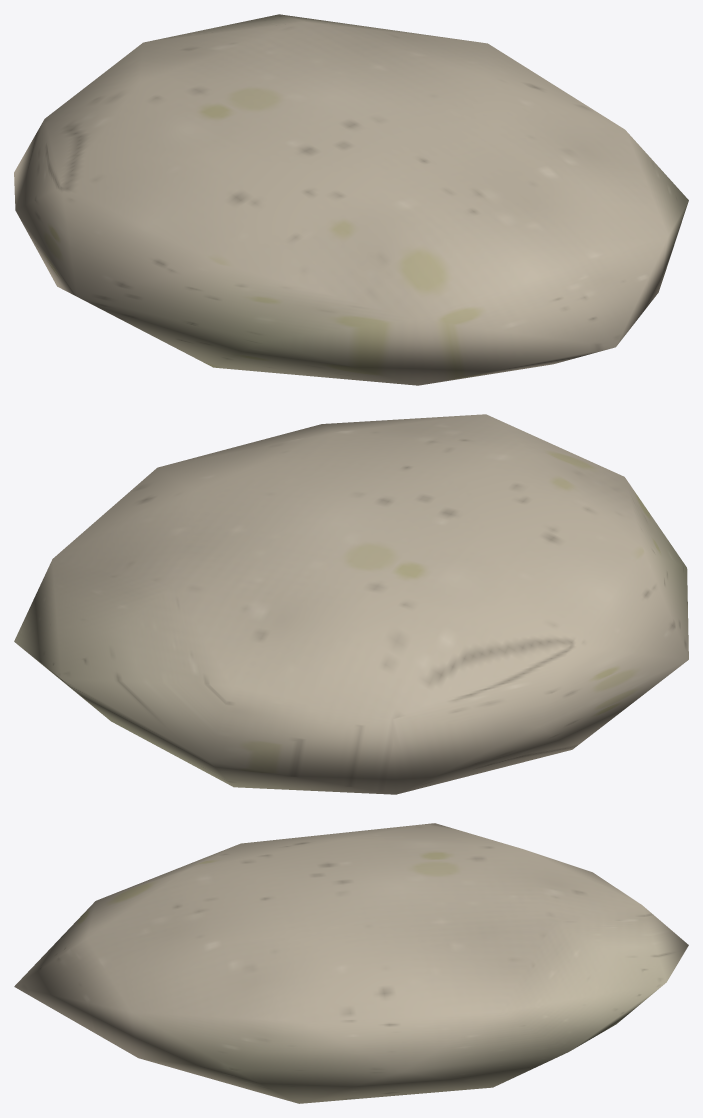
File: region-prop-164.glb
3 views of the same model, one above another, from view 1: azimuth 30°, elevation 25°; view 2: azimuth 150°, elevation 25°; view 3: azimuth 270°, elevation 25° (orthographic). The views are drawn at different scales.
Parts seen in each view (by area): view 1: props_rock_0; view 2: props_rock_0; view 3: props_rock_0.
Boxes of the visible parts, x1=… form: props_rock_0: x1=14, y1=14, x2=688, y2=385; props_rock_0: x1=14, y1=414, x2=688, y2=794; props_rock_0: x1=14, y1=823, x2=688, y2=1103.
Size of the model in its own units: 0.4165 by 0.1393 by 0.5219.
Materials: 1 (1 with a texture image).
